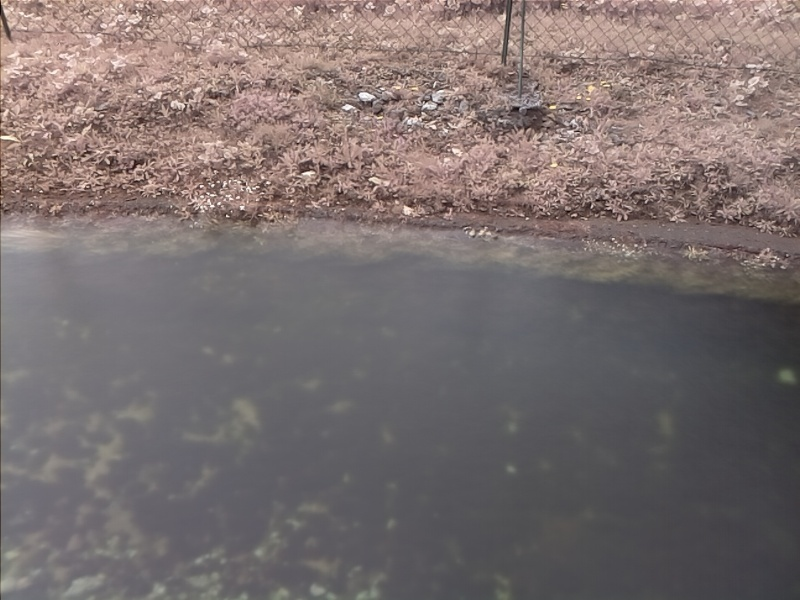Water: (1, 212, 799, 600)
